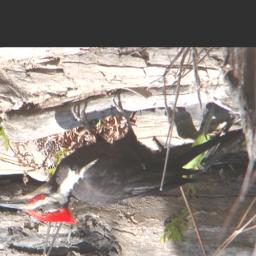Woodpecker: (0, 95, 243, 226)
